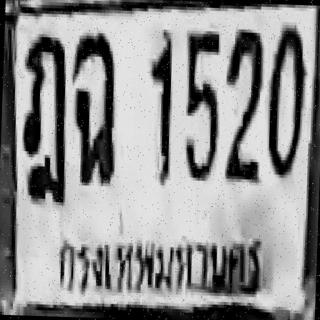A09: (68, 31, 118, 185)
A14: (19, 32, 70, 204)
N00: (266, 24, 305, 178)
N01: (145, 30, 173, 184)
N02: (223, 27, 264, 181)
N05: (182, 27, 221, 181)
P04: (52, 226, 270, 306)
